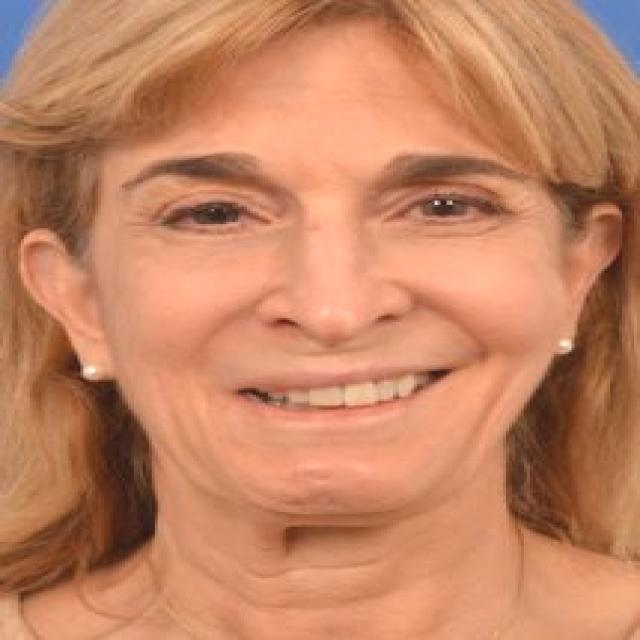stroke_face: (81, 73, 556, 504)
